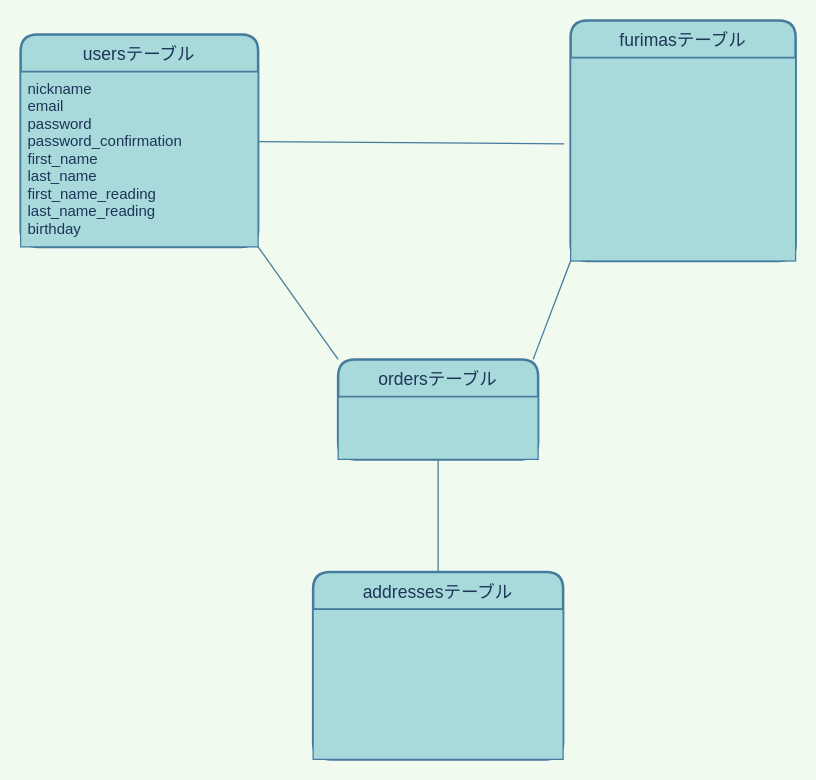
This 816x780 diagram has some shape labels left out. The centre of each missing label's shape, as x and y in pixels:
image item info category states shipping shipping_area shipping_days price user: (x=682, y=159)
postal_code prefecture city addresses building phone_number order: (x=437, y=683)
user frima: (x=437, y=427)
